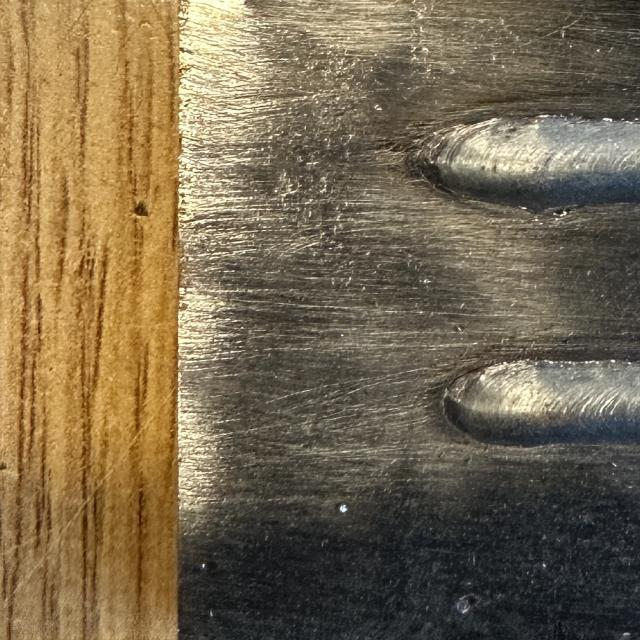Spatters: (332, 501, 352, 517), (373, 104, 382, 111), (453, 326, 462, 333), (208, 609, 215, 617), (560, 28, 565, 37), (457, 325, 463, 332), (202, 564, 207, 568)
